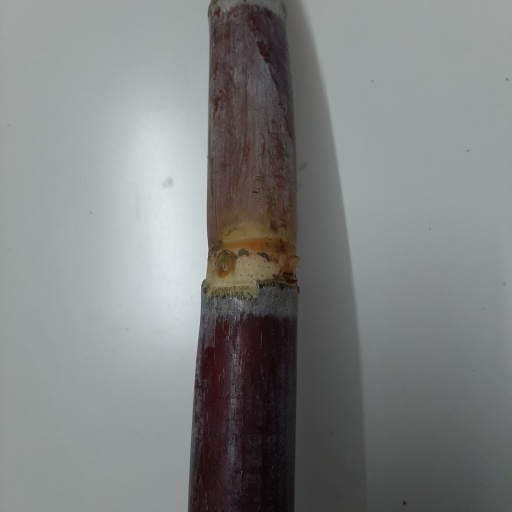Bud: (214, 251, 236, 277)
